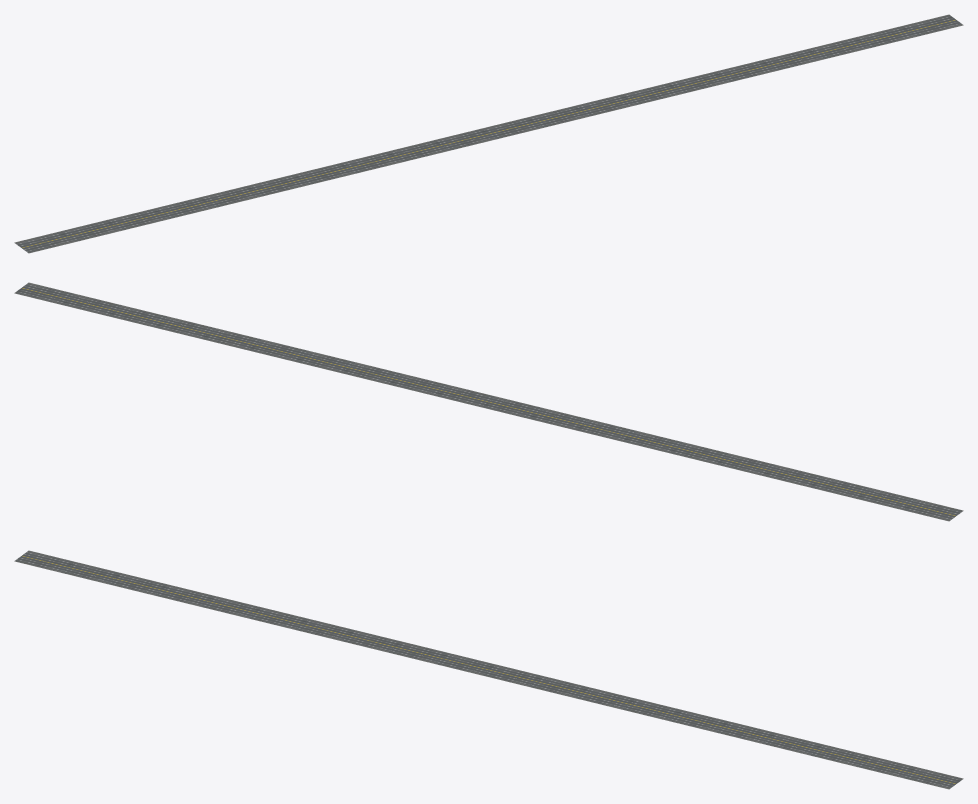
File: road.glb
3 renders of one model, top to bottom at view 1: azimuth 30°, elevation 25°; view 2: azimuth 150°, elevation 25°; view 3: azimuth 330°, elevation 25°, orthographic.
Visible parts, largest first — view 1: Plane; view 2: Plane; view 3: Plane.
Boxes of the visible parts, left/top/right/bottom form: Plane: left=14, top=14, right=963, bottom=253; Plane: left=14, top=282, right=963, bottom=521; Plane: left=14, top=550, right=963, bottom=789.
Bounding box in the file's own units: 72.63 × 0 × 2.
Materials: 1 (1 with a texture image).
